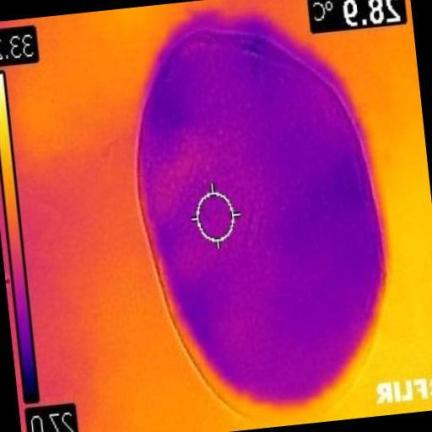mango: (140, 31, 383, 406)
